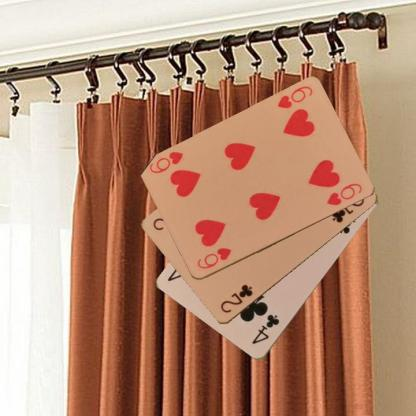2c: (218, 282, 254, 315)
4c: (249, 312, 281, 346)
6h: (194, 245, 233, 272), (274, 84, 314, 110)
